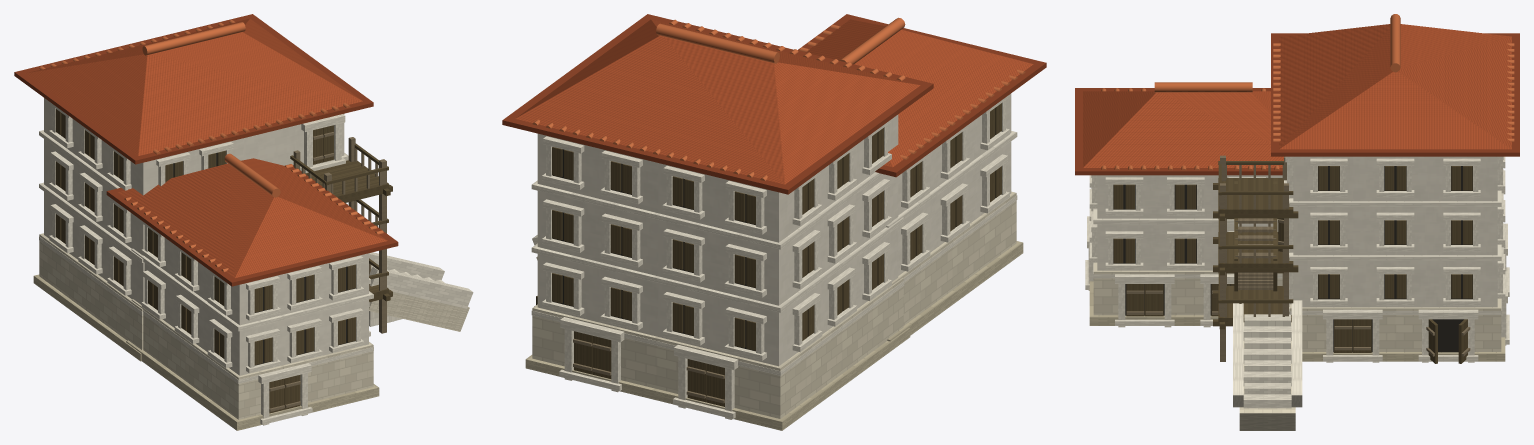
Rendered from civic-classical-apartment-block-built.glb.
3 renders of one model, left to right at view 1: azimuth 30°, elevation 25°; view 2: azimuth 150°, elevation 25°; view 3: azimuth 270°, elevation 25°, orthographic. The views are drawn at different scales.
Size of the model in its own units: 22.26 by 19.2 by 26.1.
Materials: 25 (22 with a texture image).
